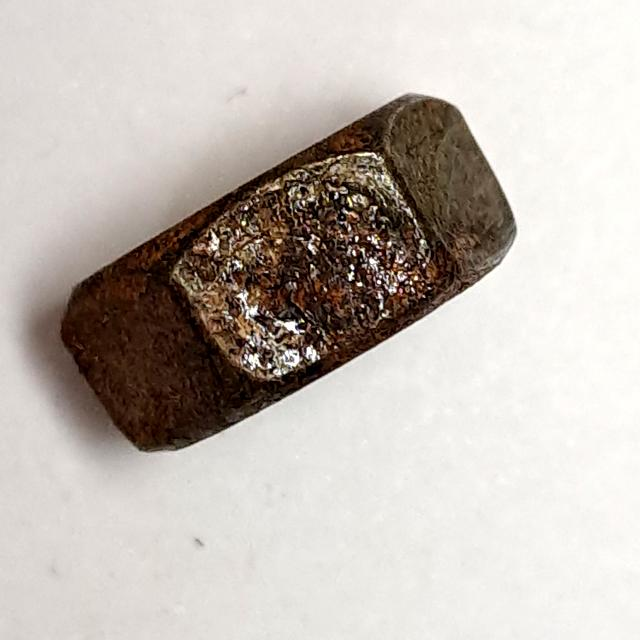Side_Rust: (51, 78, 544, 463)
